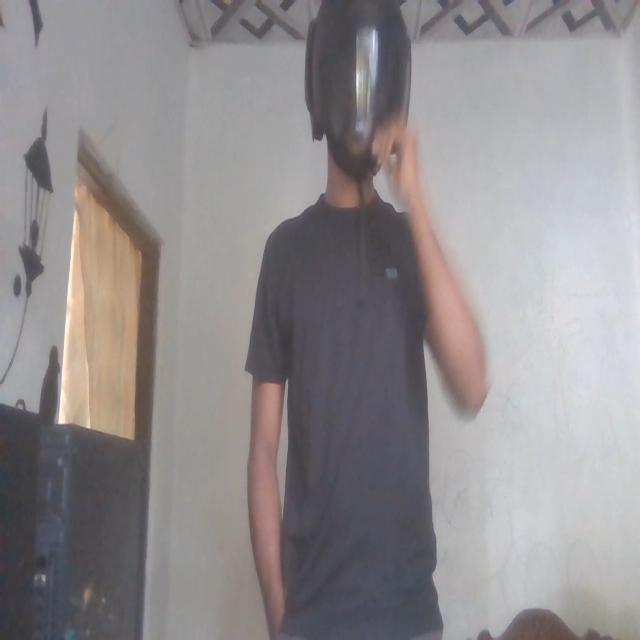Helmet_Wearer: (299, 0, 427, 188)
Person: (246, 0, 489, 640)
